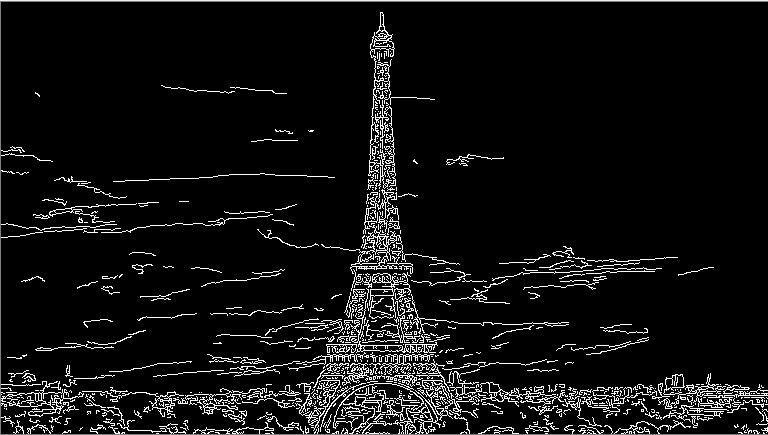eiffel tower: (293, 7, 465, 426)
